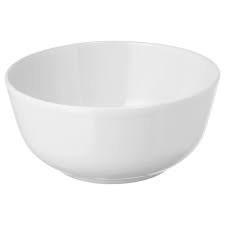bowl: (2, 35, 223, 188)
